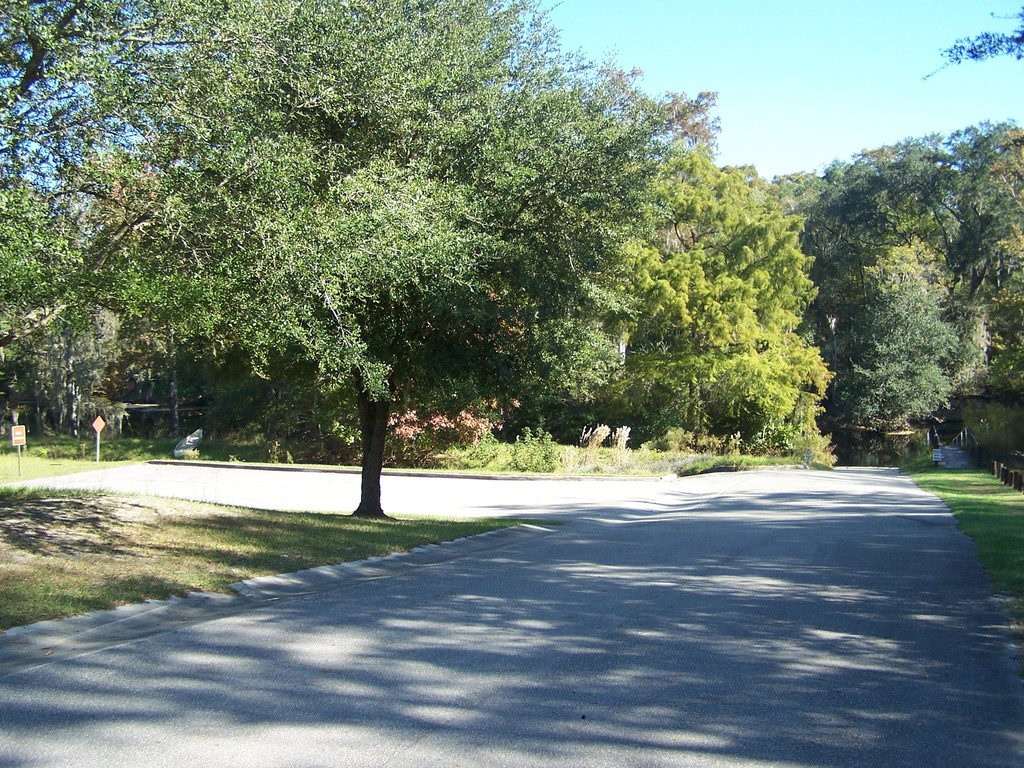Tree: (70, 0, 720, 522), (0, 0, 298, 414), (785, 129, 1023, 467), (606, 162, 830, 456)
